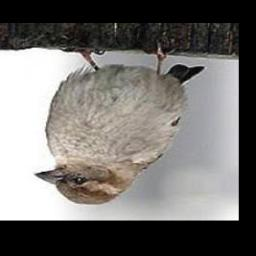Sparrow: (35, 40, 206, 206)
